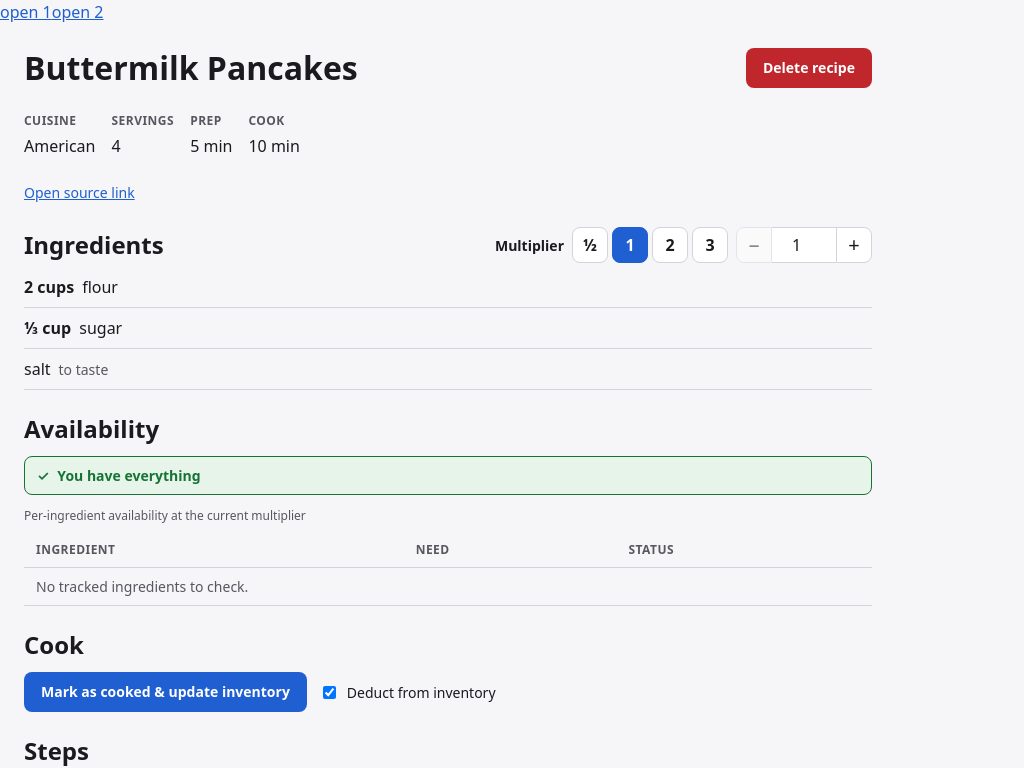
Scenario: RecipeDetail delete › cancel keeps the recipe on screen
Check: the heading "Buttermilk Pancakes" is shown, box x1=24 y1=48 x2=358 y2=88
Click the button "Delete recipe": click(809, 68) x1=746 y1=48 x2=872 y2=88
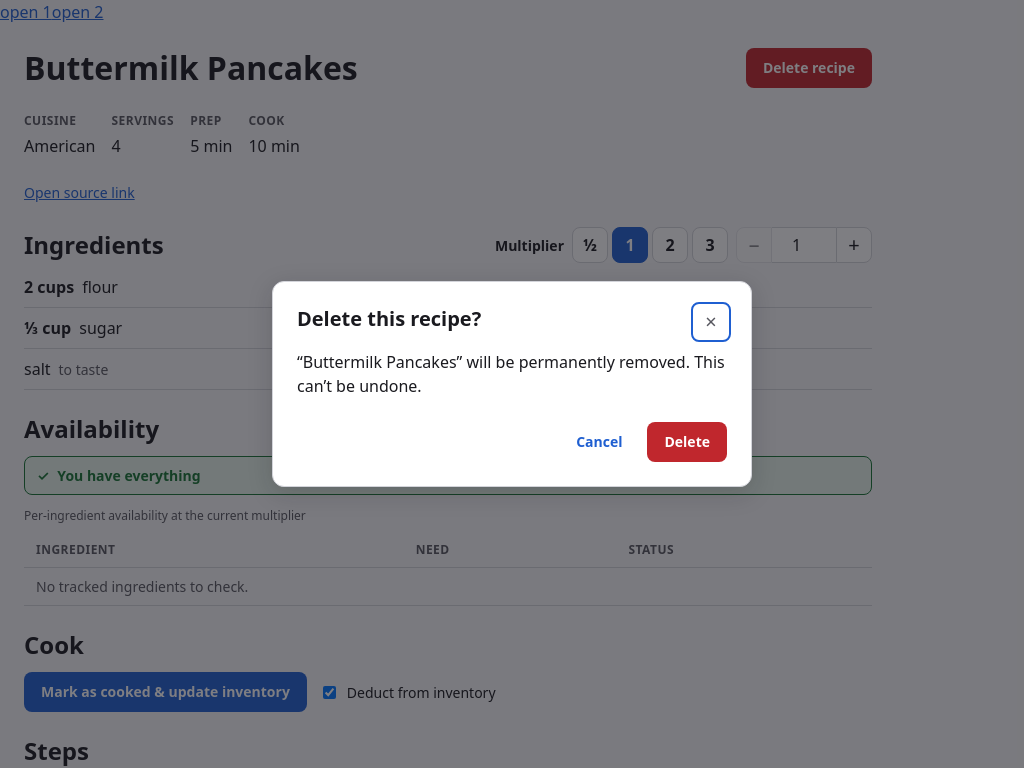
Click the button "Cancel": click(599, 442) x1=559 y1=422 x2=640 y2=462
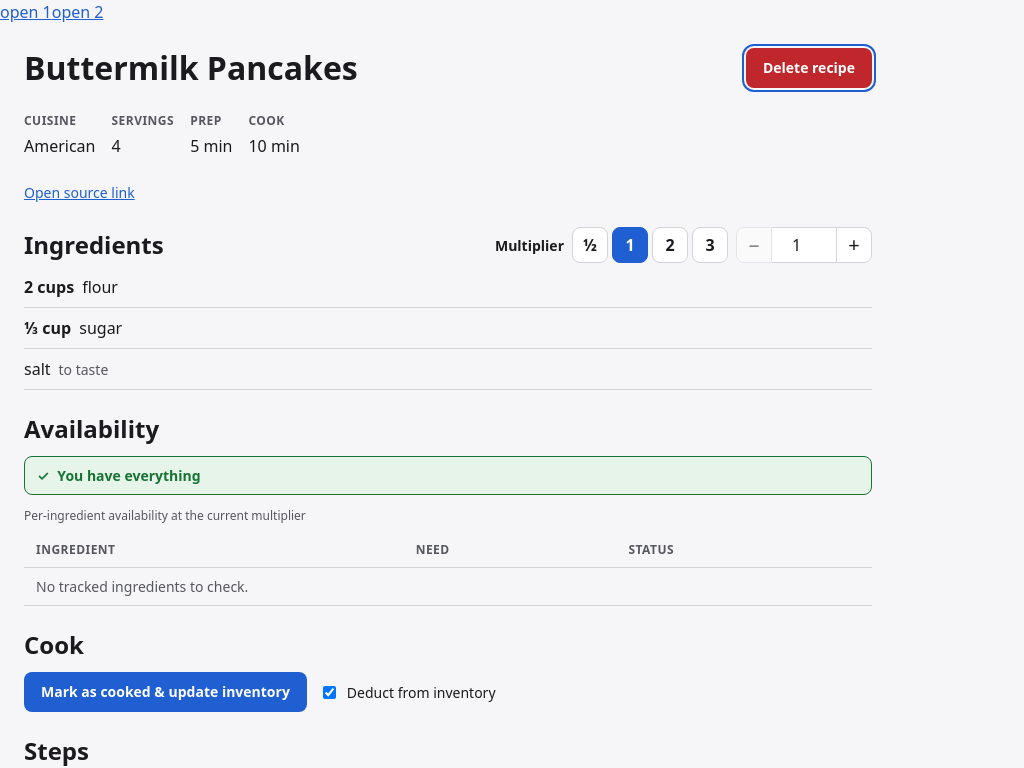
Check: the heading "Buttermilk Pancakes" is shown, box x1=24 y1=48 x2=358 y2=88
Check: the dialog is gone
